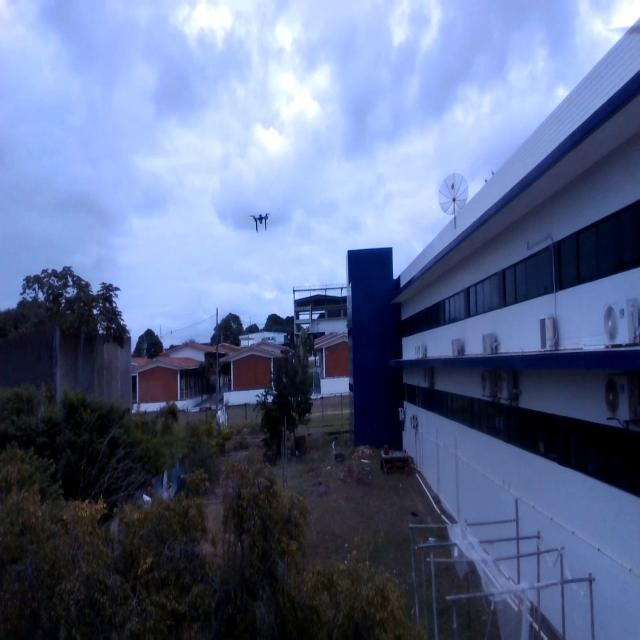-uav-: (246, 203, 273, 241)
